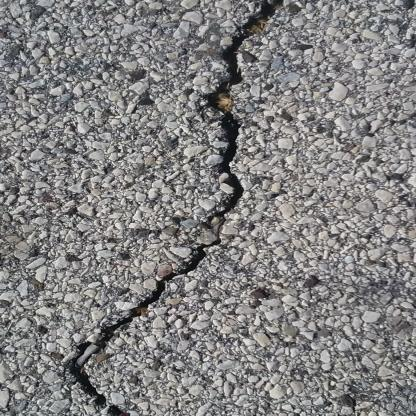Cracks: (65, 0, 331, 416)
